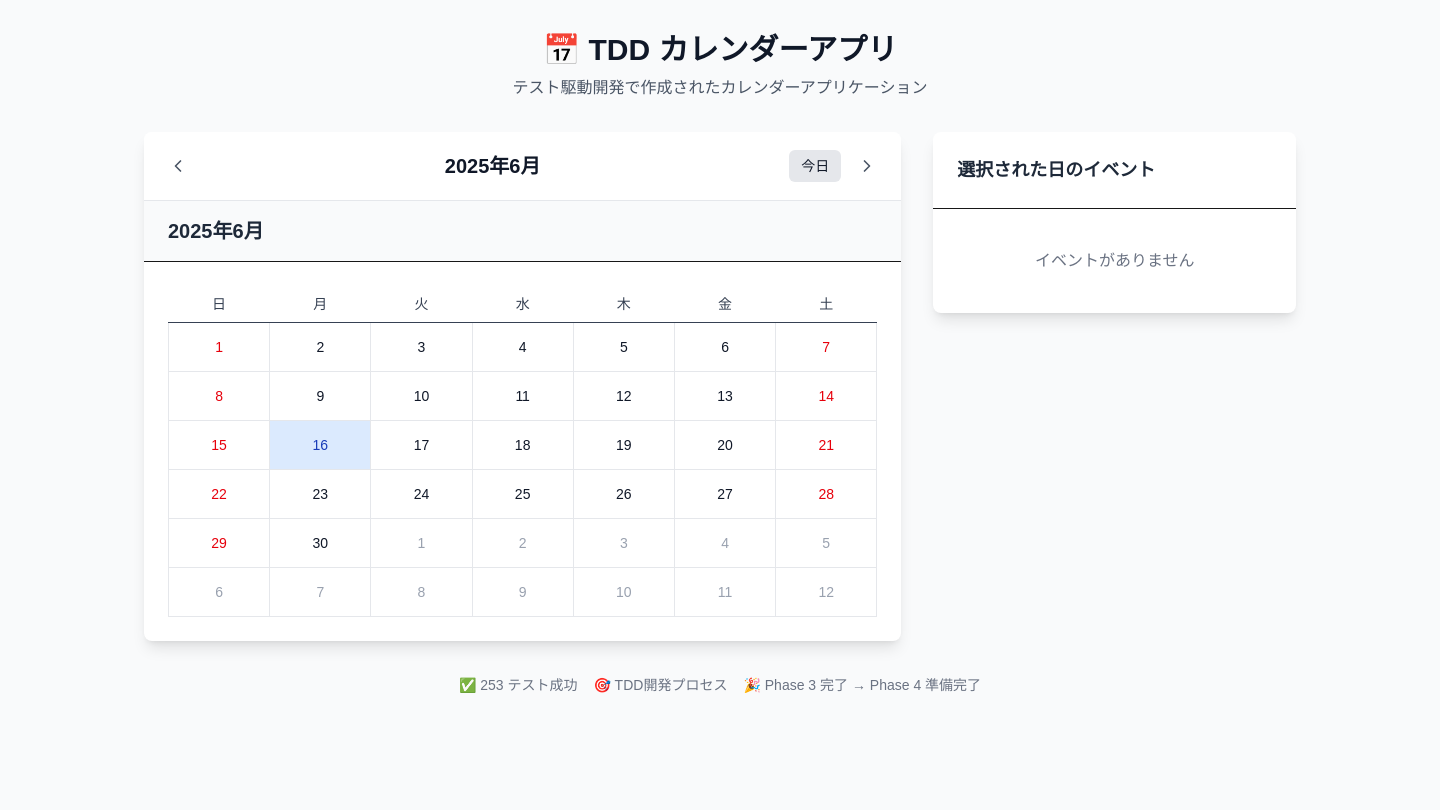
Scenario: CalendarApp Integration › 月移動機能 › 今日ボタンで現在の月に戻る
Click the button named "次月". click: (867, 166)
box: [849,148,885,184]
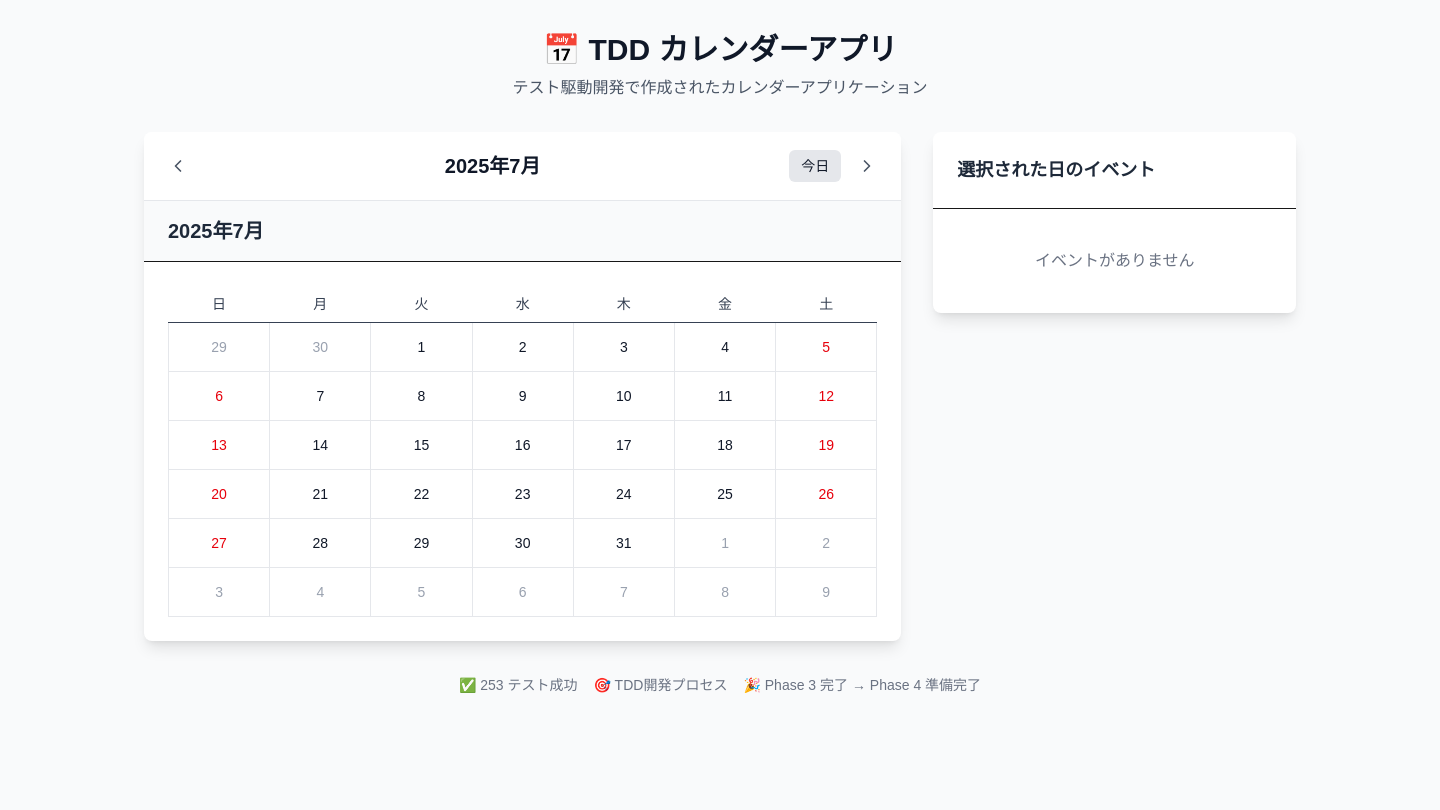
# 今日ボタンをクリック
Click the button "今日". click: (815, 166)
box: [789,150,841,182]
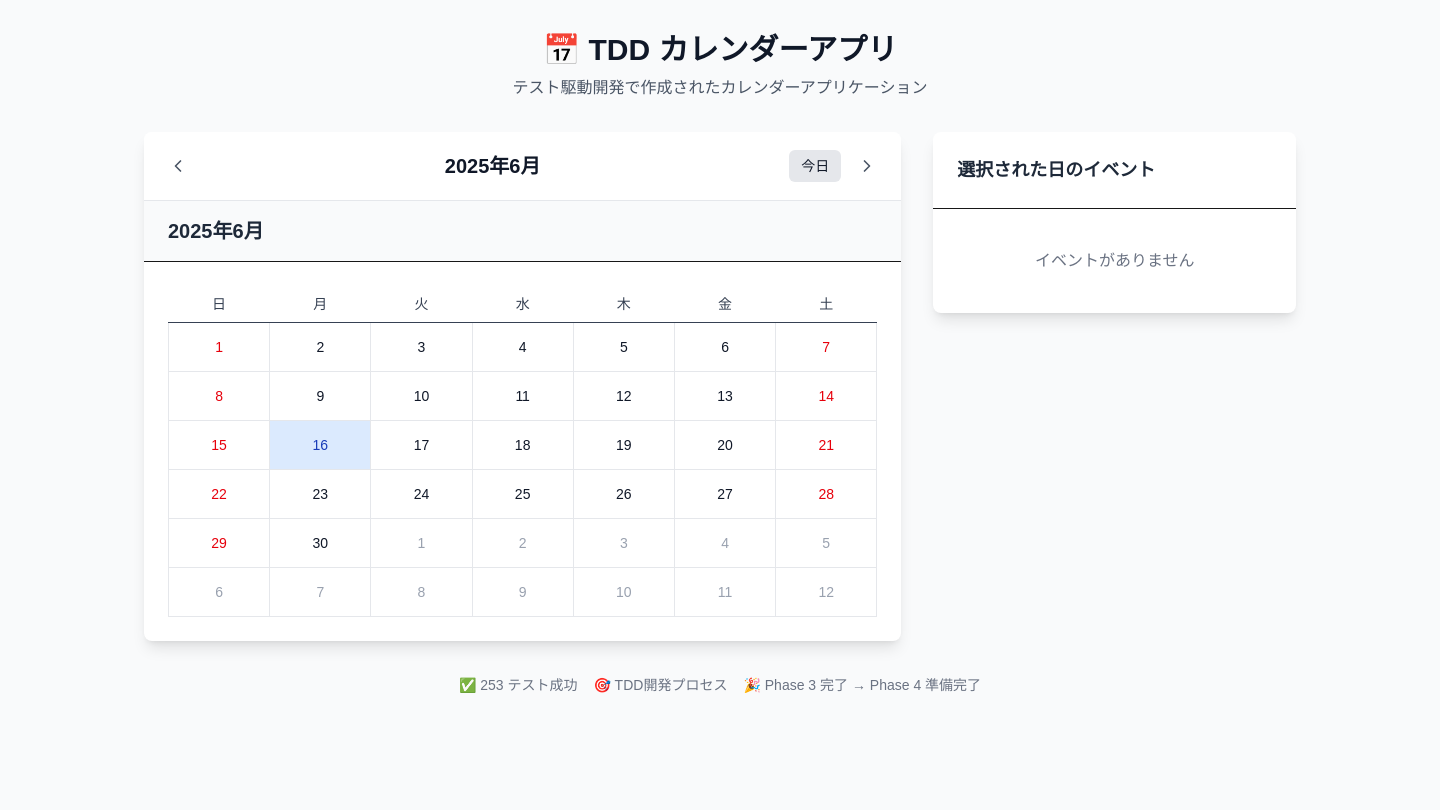
Now the 1st heading "2025年6月" is shown, box [445,152,540,180]
